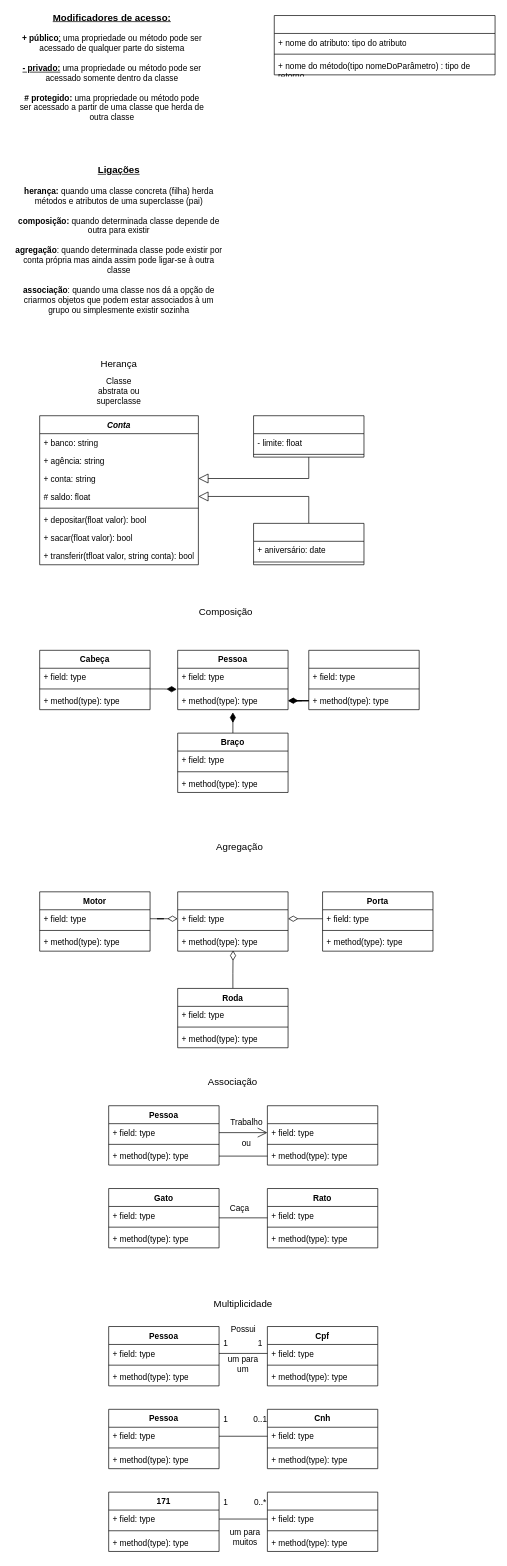
The diagram is 507 pixels wide and 1566 high, and some of its shapes have lost their labels. Here are the shapes that lost their labels. From the top down, the box of each, then its label:
(274, 15, 495, 75): Nome da classe
(253, 415, 364, 457): ContaCorrente
(253, 523, 364, 565): ContaPoupança
(308, 650, 419, 710): Perna
(177, 891, 288, 951): Carro
(267, 1105, 378, 1165): Empresa
(267, 1491, 378, 1551): Passaporte
